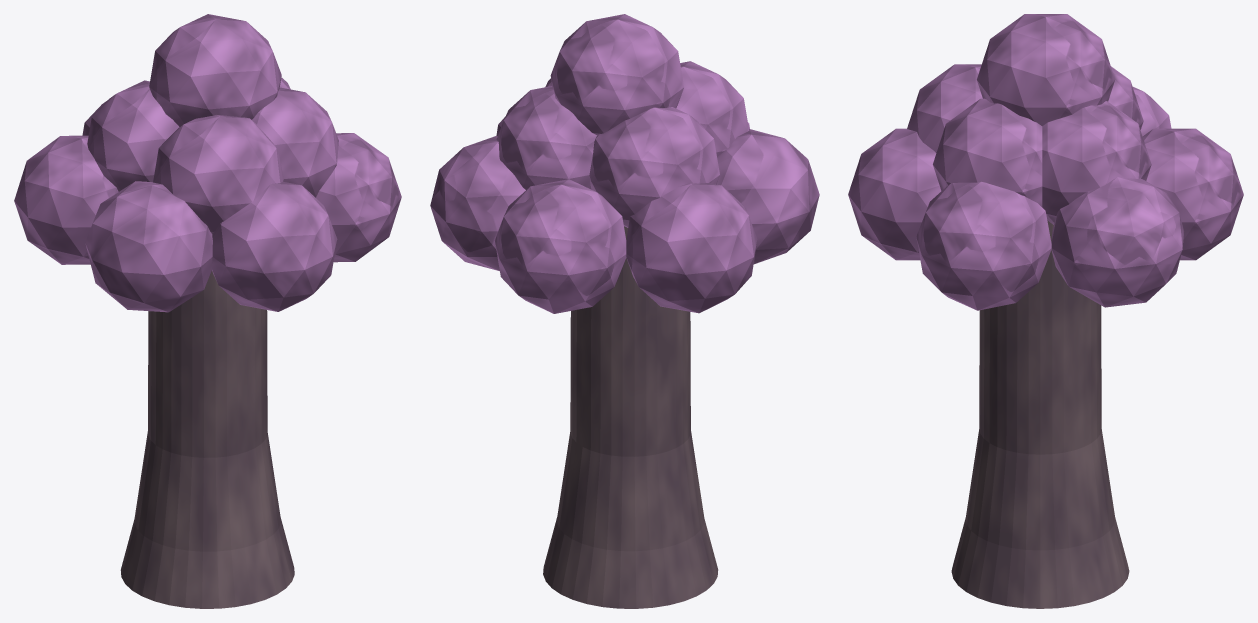
The model's file is tree3.gltf.
The picture shows the model from 3 angles, left to right: view 1: azimuth 30°, elevation 25°; view 2: azimuth 150°, elevation 25°; view 3: azimuth 270°, elevation 25°; orthographic projection. The views are drawn at different scales.
Visible parts, largest first — view 1: Leaves, trunk.002; view 2: Leaves, trunk.002; view 3: Leaves, trunk.002.
Part boxes in pixels (<box>): Leaves: <box>14,14,401,312</box>; trunk.002: <box>120,271,294,608</box>; Leaves: <box>430,14,819,313</box>; trunk.002: <box>543,226,718,608</box>; Leaves: <box>848,14,1243,310</box>; trunk.002: <box>951,220,1129,608</box>.
Bounding box in the file's own units: 6.03 × 10.25 × 6.57.
Materials: 2 (2 with a texture image).
